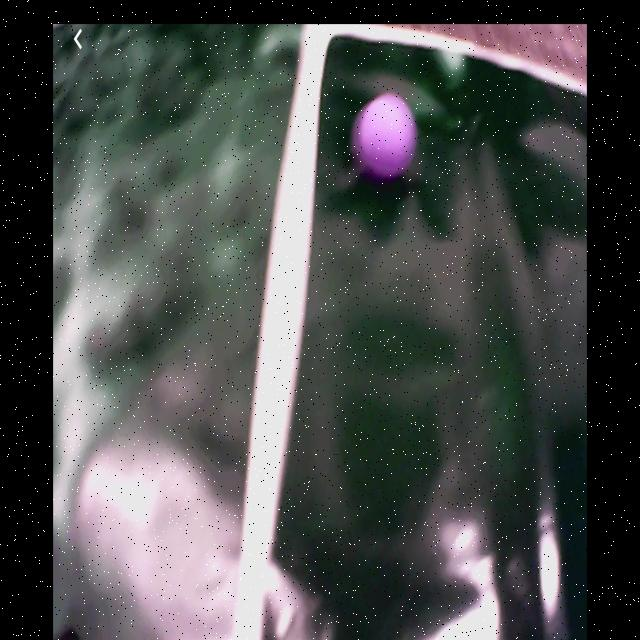ball: (362, 95, 417, 177)
